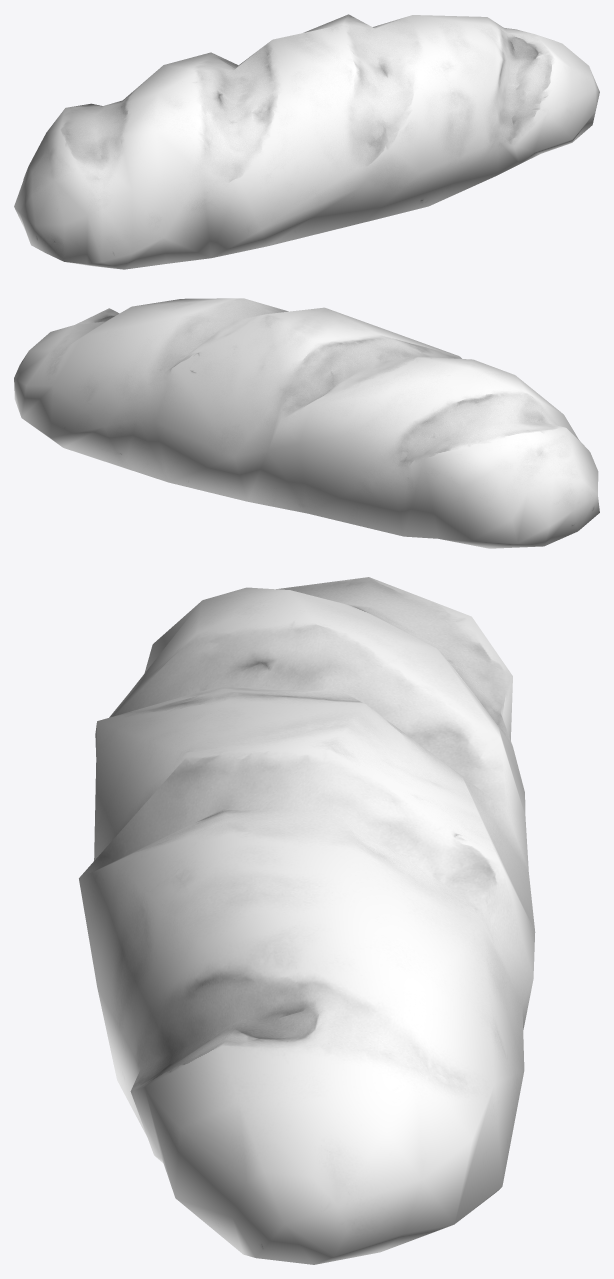
Rendered from NutBread.fbx.
3 views of the same model, one above another, from view 1: azimuth 30°, elevation 25°; view 2: azimuth 150°, elevation 25°; view 3: azimuth 270°, elevation 25° (orthographic). The views are drawn at different scales.
Parts seen in each view (by area): view 1: Mesh; view 2: Mesh; view 3: Mesh.
Boxes of the visible parts, bbox=[...] form: Mesh: bbox=[14, 14, 599, 269]; Mesh: bbox=[14, 298, 599, 548]; Mesh: bbox=[79, 577, 535, 1264].
Size of the model in its own units: 19.62 by 5.22 by 6.89.
